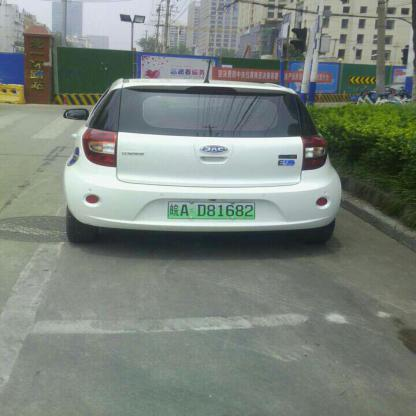lp: (168, 201, 257, 218)
